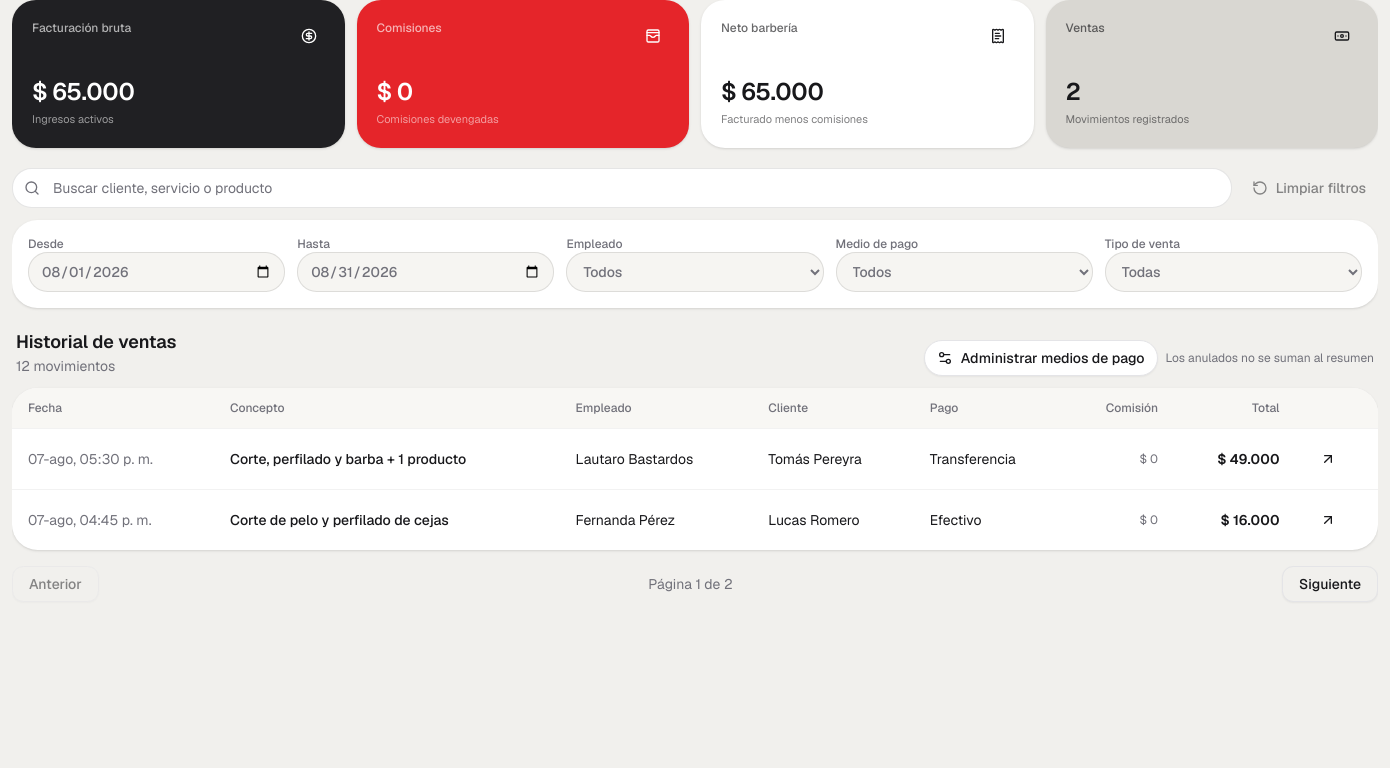
Test: IncomesView (manager) › uses one server paginator for the income table
The image size is (1390, 768).
Check: the number of buttons "Anterior" is 1, box x1=12 y1=566 x2=99 y2=602
Check: the text "Página 1 de 2" is shown once, box x1=648 y1=574 x2=733 y2=594
Click the button "Siguiente": (1330, 584) x1=1282 y1=566 x2=1378 y2=602
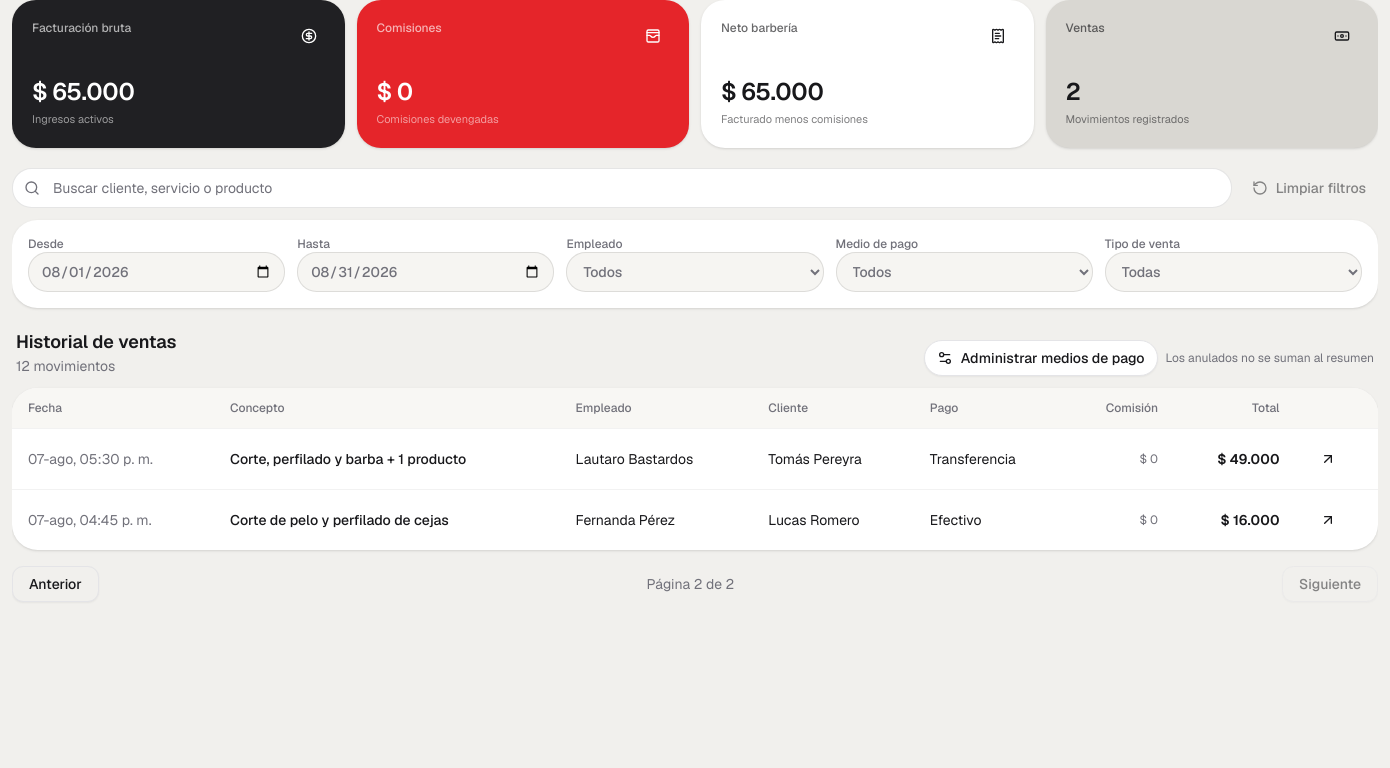
Check: the text "Página 2 de 2" is shown, box x1=647 y1=574 x2=734 y2=594
